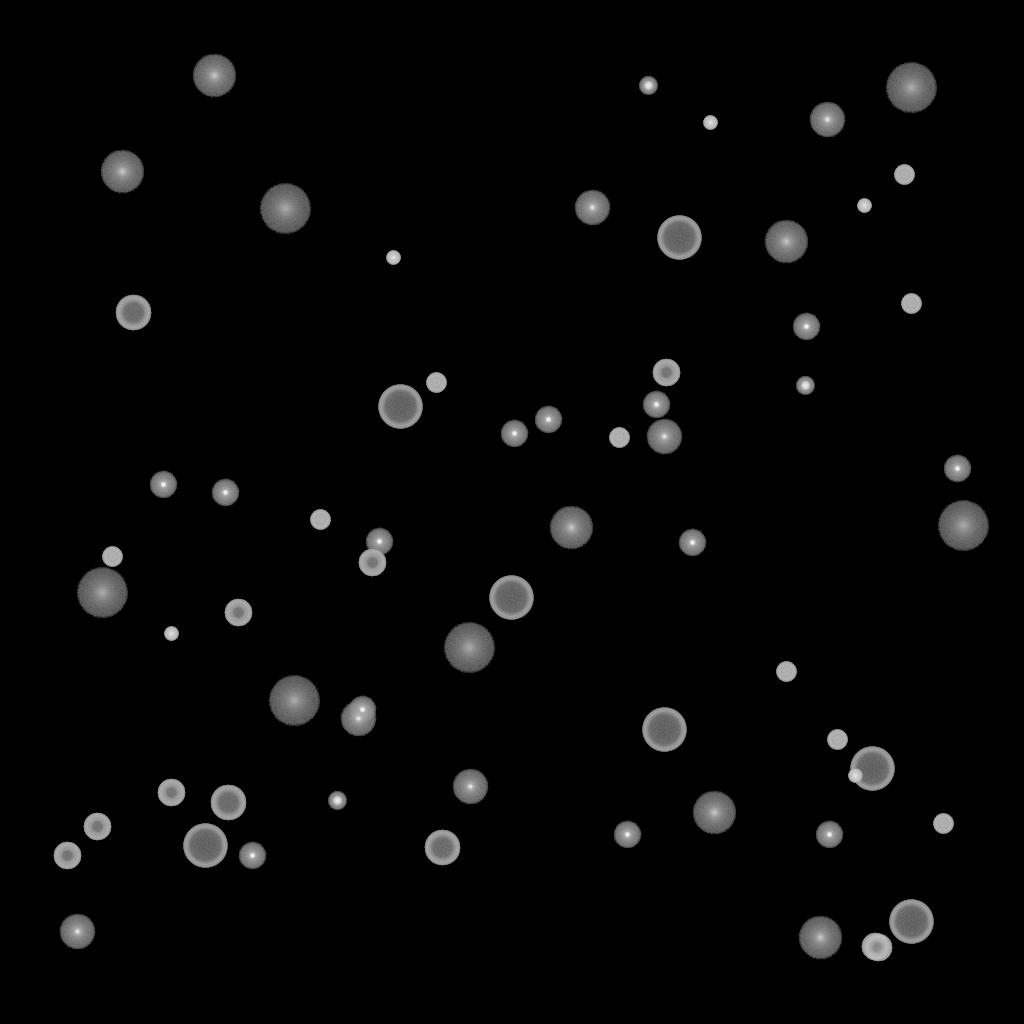depth:-10: (642, 391, 670, 419), (348, 696, 376, 724), (943, 455, 971, 483), (211, 479, 239, 507), (238, 842, 266, 870), (500, 420, 528, 448), (149, 471, 177, 499), (365, 528, 393, 556), (678, 529, 706, 557), (792, 313, 820, 341), (534, 406, 562, 434), (815, 821, 843, 849), (613, 821, 641, 849)
depth:-20: (796, 377, 814, 395), (328, 792, 346, 810), (639, 77, 657, 95)
depth:-30: (386, 251, 400, 265), (857, 199, 871, 213), (164, 627, 178, 641), (703, 116, 717, 130), (848, 769, 862, 783)
depth:-40: (426, 373, 446, 393), (776, 662, 796, 682), (310, 510, 330, 530), (827, 730, 847, 750), (901, 294, 921, 314), (609, 428, 629, 448), (894, 165, 914, 185), (102, 547, 122, 567), (933, 814, 953, 834)
depth:-50: (157, 779, 185, 807), (224, 599, 252, 627), (864, 934, 892, 962), (652, 359, 680, 387), (861, 933, 889, 961), (53, 842, 81, 870), (358, 549, 386, 577), (83, 813, 111, 841)
depth:-60: (210, 785, 246, 821), (115, 295, 151, 331), (424, 830, 460, 866)
depth:-70: (850, 747, 894, 791), (642, 708, 686, 752), (378, 385, 422, 429), (489, 576, 533, 620), (889, 900, 933, 944), (183, 824, 227, 868), (657, 216, 701, 260)
depth:0: (59, 914, 95, 950), (452, 769, 488, 805), (340, 701, 376, 737), (809, 102, 845, 138), (574, 190, 610, 226), (646, 419, 682, 455)
depth:10: (549, 506, 593, 550), (192, 54, 236, 98), (798, 916, 842, 960), (764, 220, 808, 264), (100, 150, 144, 194), (692, 791, 736, 835)
depth:20: (937, 501, 989, 551), (268, 676, 320, 726), (76, 568, 128, 618), (259, 184, 311, 234), (885, 63, 937, 113), (443, 623, 495, 673)
